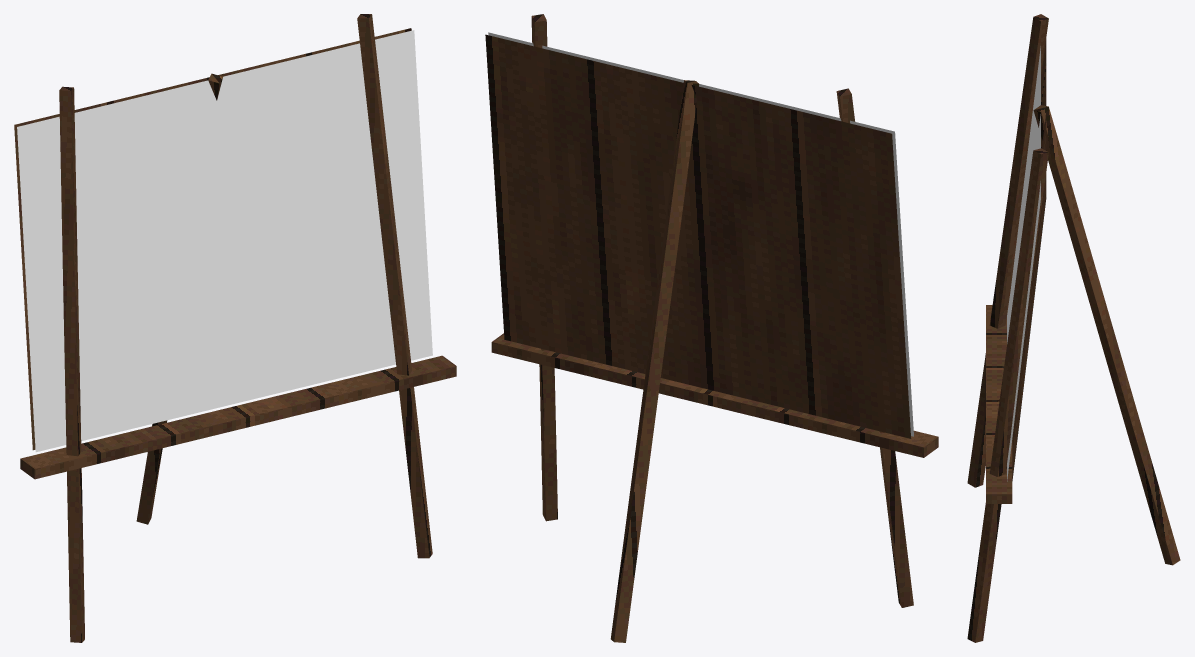
The model's file is caballete.obj.
3 views of the same model, side by side, from view 1: azimuth 30°, elevation 25°; view 2: azimuth 150°, elevation 25°; view 3: azimuth 270°, elevation 25° (orthographic). The views are drawn at different scales.
Visible parts, largest first — view 1: caballete; view 2: caballete; view 3: caballete.
Part boxes in pixels (x1=…): caballete: x1=14, y1=14, x2=456, y2=642; caballete: x1=485, y1=14, x2=938, y2=642; caballete: x1=967, y1=14, x2=1180, y2=642.
Bounding box in the file's own units: 1.7 × 2.01 × 0.8088.
2 materials, 1 textured.
